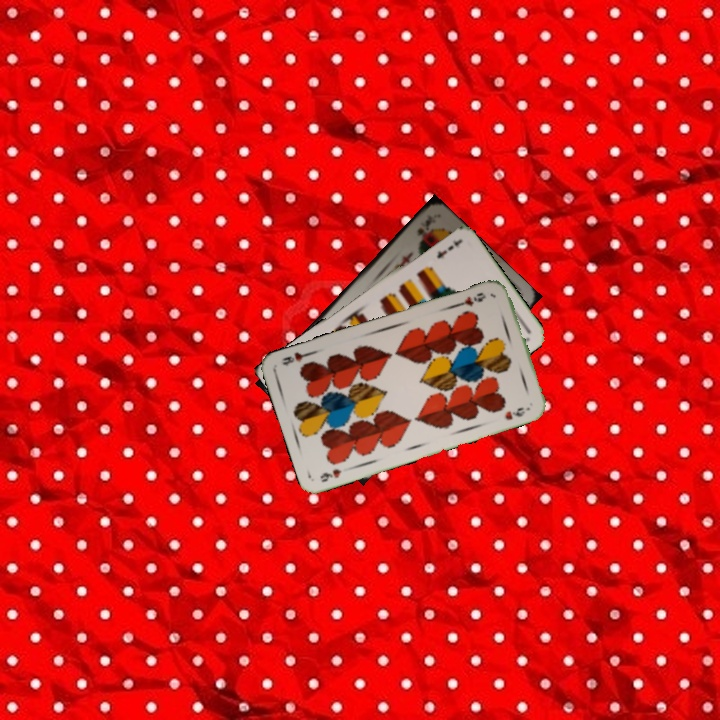E7: (433, 241, 456, 261)
H9: (454, 288, 489, 309), (316, 465, 344, 485)
SK: (413, 215, 432, 240)
